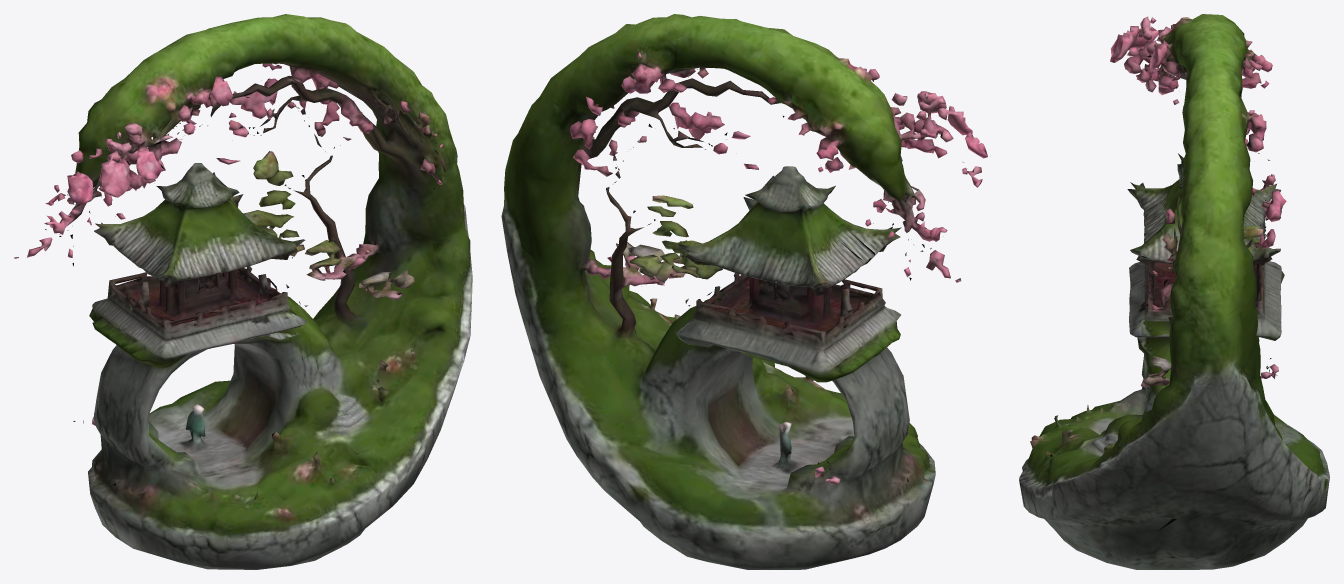
File: bq_moongate.bk.glb
3 views of the same model, side by side, from view 1: azimuth 30°, elevation 25°; view 2: azimuth 150°, elevation 25°; view 3: azimuth 270°, elevation 25° (orthographic). The views are drawn at different scales.
Visible parts, largest first — view 1: lo; view 2: lo; view 3: lo.
Boxes of the visible parts, box(x1,y1,x2,y2) form: lo: box(14, 14, 472, 569); lo: box(501, 14, 987, 569); lo: box(1019, 14, 1329, 569).
Bounding box in the file's own units: 1.83 × 1.9 × 1.11.
1 material, 1 textured.
